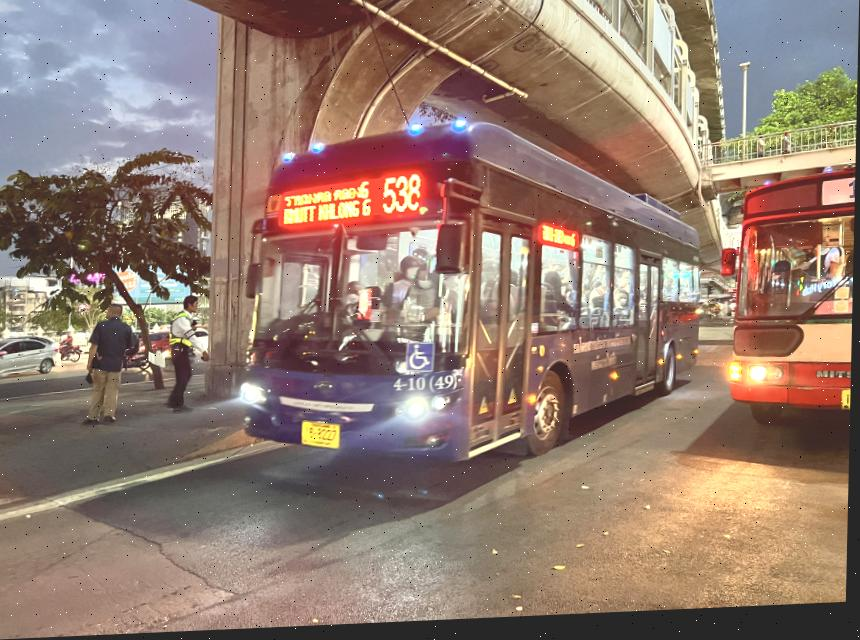BMTA-bus: (726, 164, 857, 428)
Bus Line Number: (377, 174, 427, 220)
Bus Side Number: (387, 374, 460, 402)
Destination Sign: (278, 180, 375, 233)
TSB-Bus: (239, 127, 702, 473)
